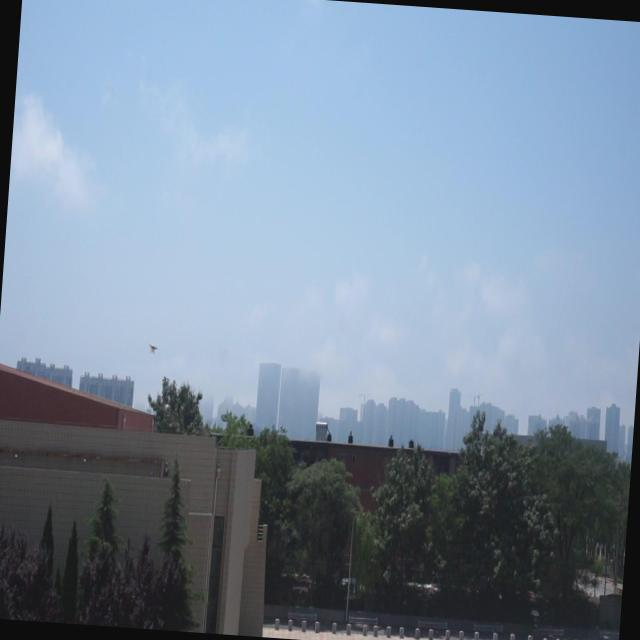drone: (148, 341, 158, 357)
